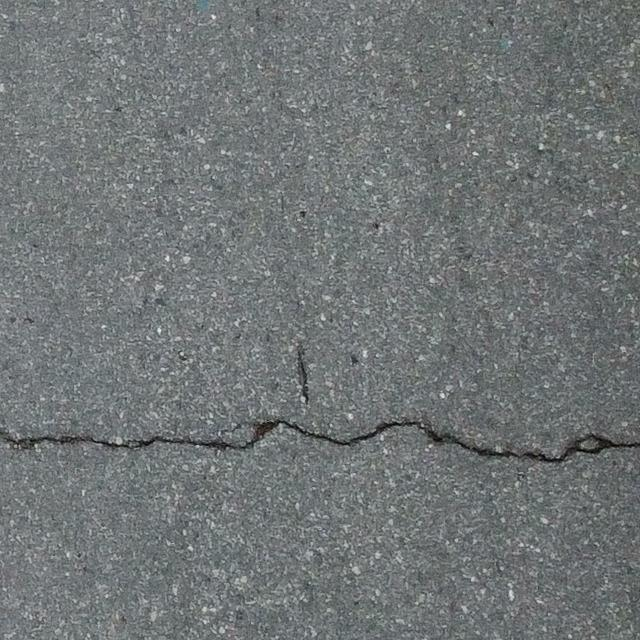TransverseCrack: (1, 417, 640, 465)
